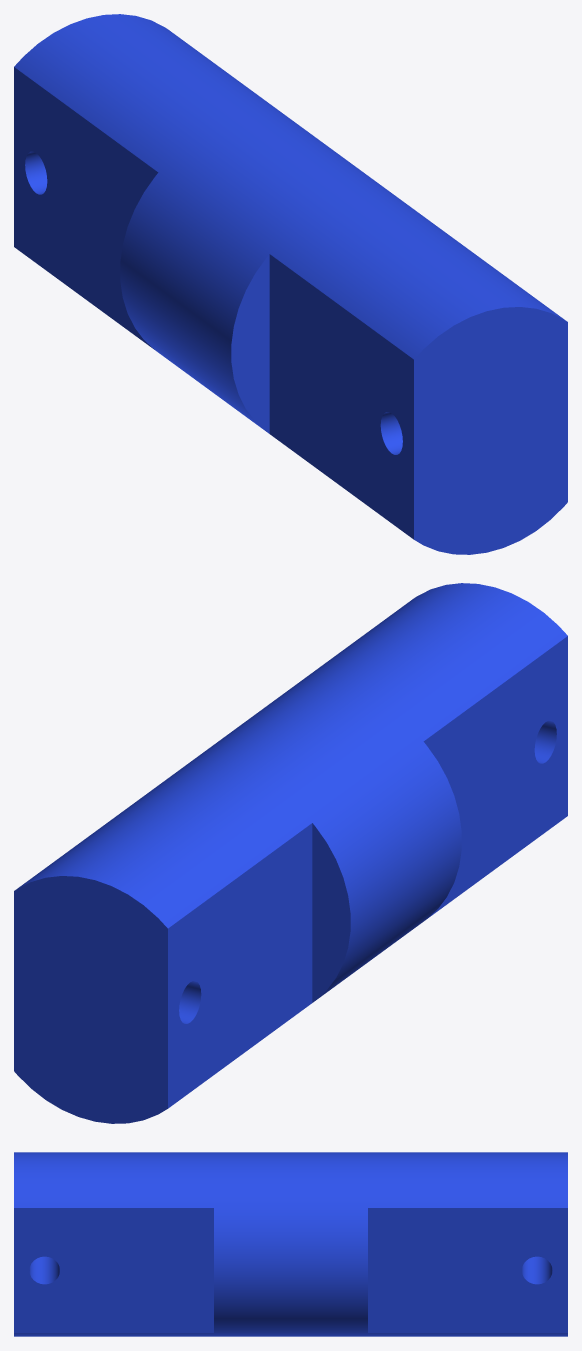
3 renders of one model, top to bottom at view 1: azimuth 30°, elevation 25°; view 2: azimuth 150°, elevation 25°; view 3: azimuth 270°, elevation 25°, orthographic. The views are drawn at different scales.
Visible parts, largest first — view 1: color; view 2: color; view 3: color.
Boxes of the visible parts, x1=… form: color: x1=14, y1=14, x2=567, y2=554; color: x1=14, y1=583, x2=567, y2=1123; color: x1=14, y1=1152, x2=567, y2=1336.
Bounding box in the file's own units: 7.61 × 7.61 × 22.86.
